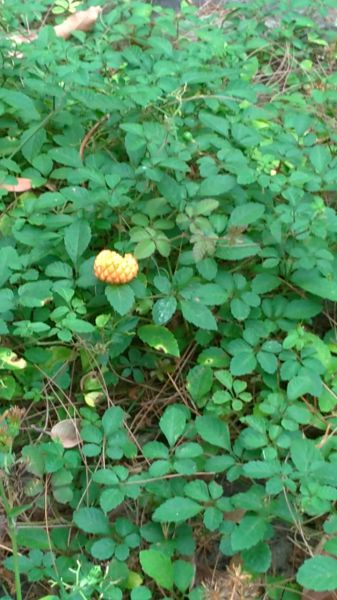eggs: (86, 245, 145, 290)
